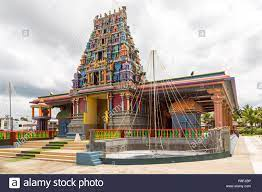Temple: (69, 5, 150, 120)
